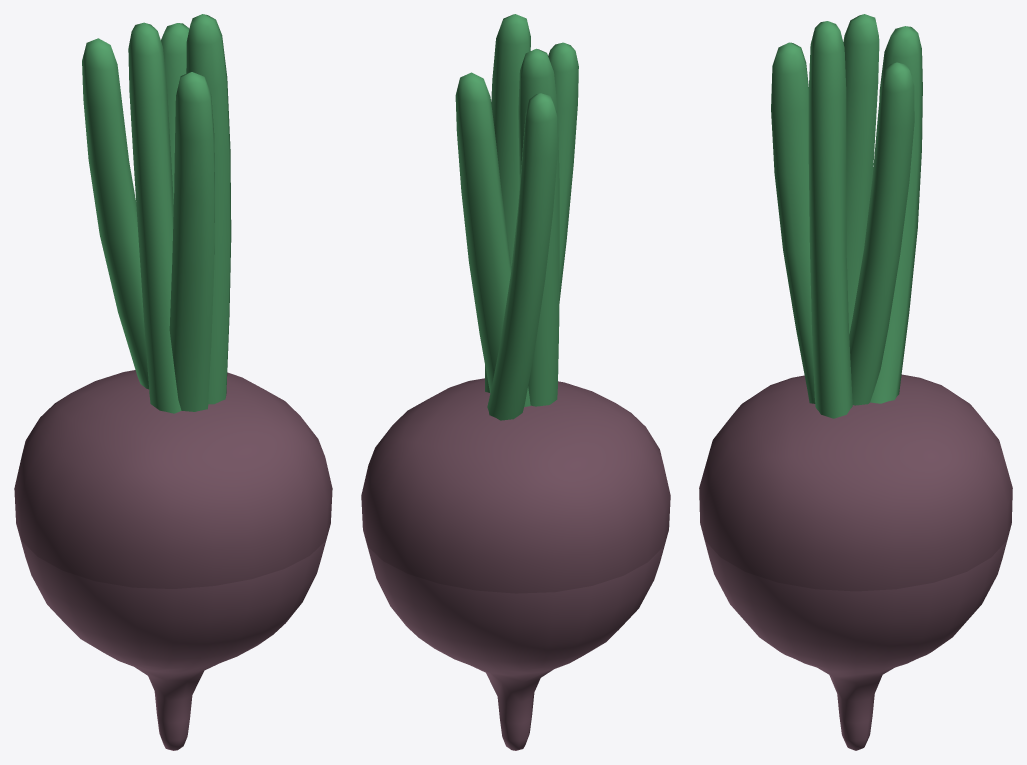
The model's file is Turnip_01.dae.
3 views of the same model, side by side, from view 1: azimuth 30°, elevation 25°; view 2: azimuth 150°, elevation 25°; view 3: azimuth 270°, elevation 25° (orthographic). The views are drawn at different scales.
Visible parts, largest first — view 1: Turnip_01_LOD0; view 2: Turnip_01_LOD0; view 3: Turnip_01_LOD0.
Part boxes in pixels (x1=…): Turnip_01_LOD0: x1=14, y1=14, x2=332, y2=750; Turnip_01_LOD0: x1=361, y1=14, x2=670, y2=750; Turnip_01_LOD0: x1=699, y1=14, x2=1012, y2=750.
Size of what is drawn, in the model's own units: 3.53 by 3.53 by 9.17.
